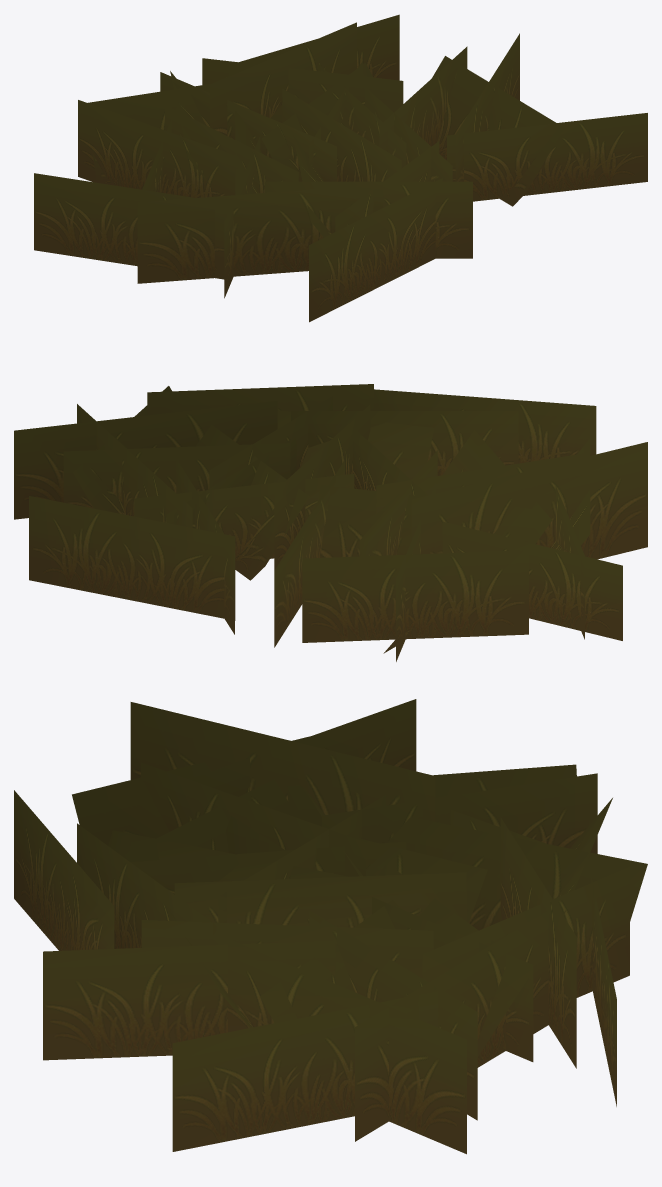
File: p_xz_grass02_03.FBX
The picture shows the model from 3 angles, top to bottom: view 1: azimuth 30°, elevation 25°; view 2: azimuth 150°, elevation 25°; view 3: azimuth 270°, elevation 25°; orthographic projection. The views are drawn at different scales.
Parts seen in each view (by area): view 1: p_xz_grass02_02; view 2: p_xz_grass02_02; view 3: p_xz_grass02_02.
Boxes of the visible parts, box(x1,y1,x2,y2) form: p_xz_grass02_02: box(34, 14, 647, 322); p_xz_grass02_02: box(14, 384, 647, 661); p_xz_grass02_02: box(14, 699, 647, 1154).
Size of the model in its own units: 5.4 by 0.891 by 3.77.
